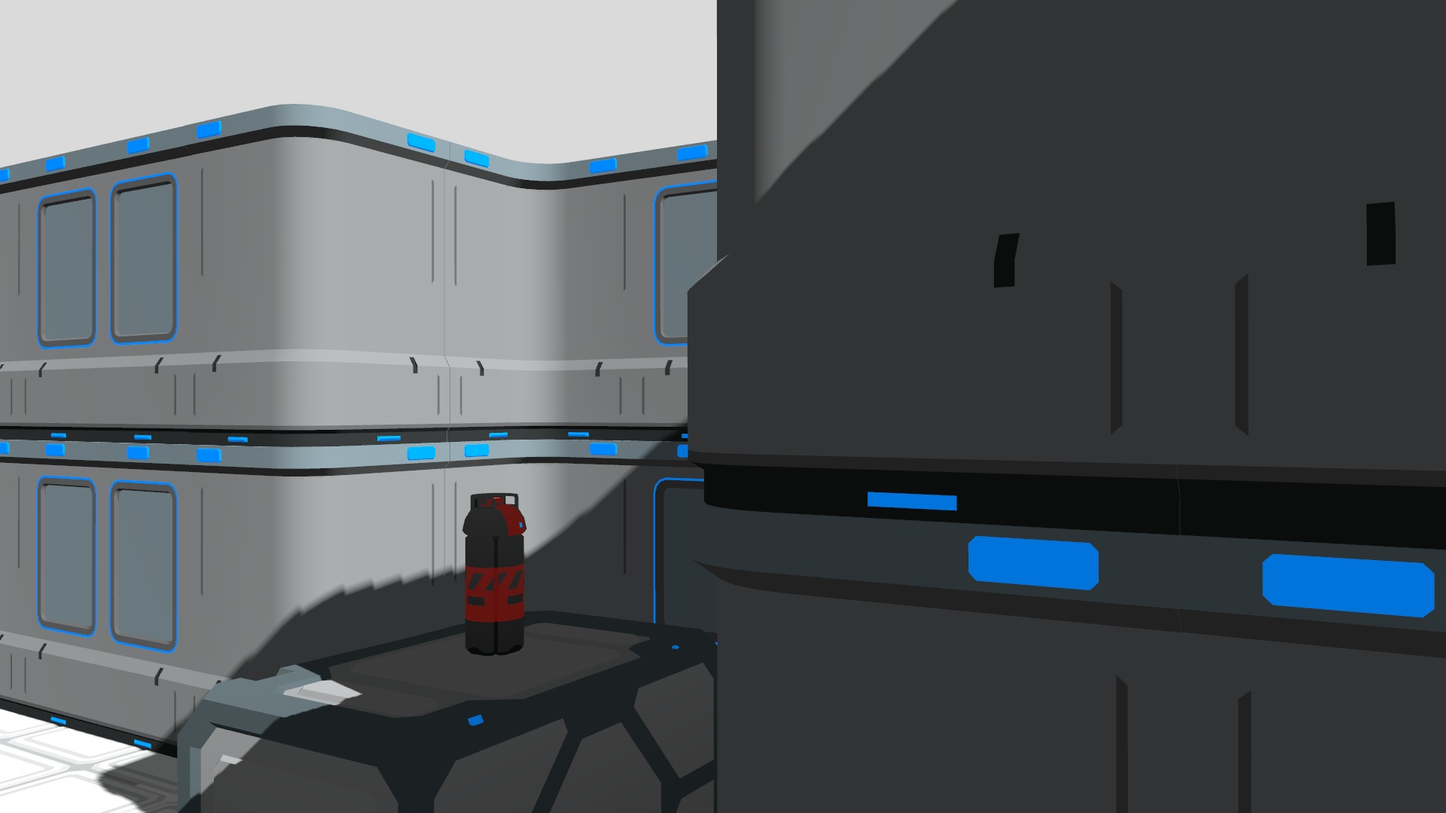red_barrel: (460, 486, 533, 661)
